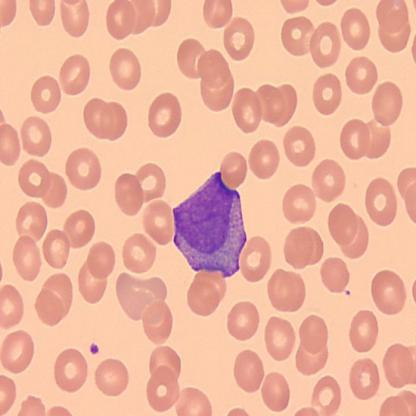Promyelocyte: (171, 169, 247, 278)
